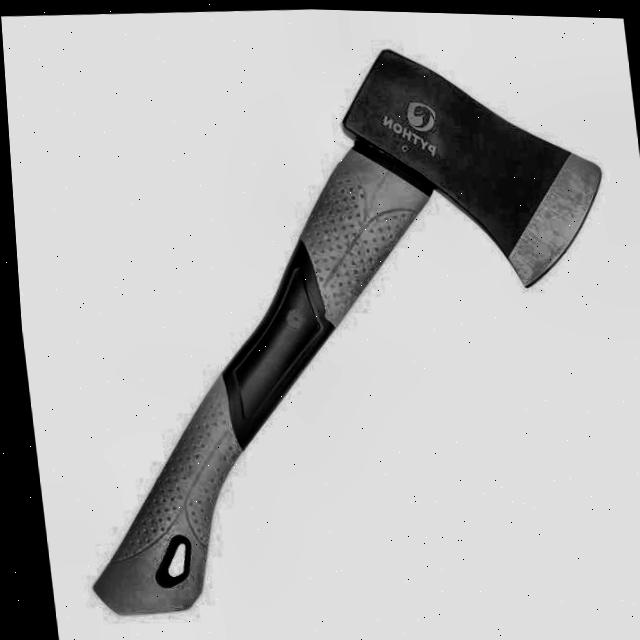kapak: (66, 36, 617, 632)
